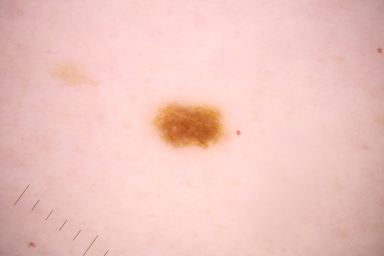nevus: (157, 107, 222, 148)
